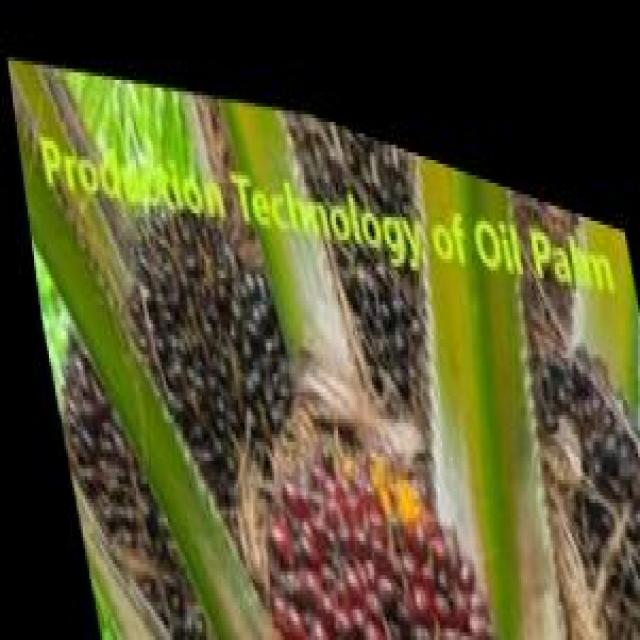Ripefruit: (219, 354, 521, 640)
